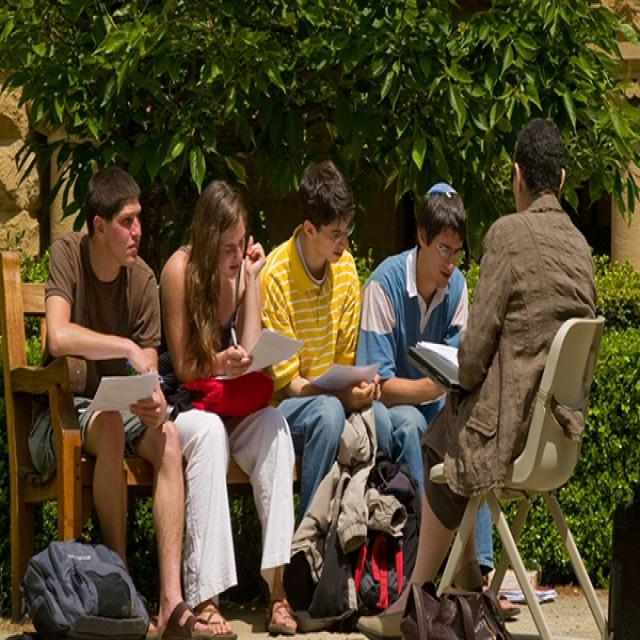body: (355, 116, 600, 638), (24, 165, 220, 638), (352, 179, 524, 626), (144, 178, 305, 636), (255, 156, 383, 530)
